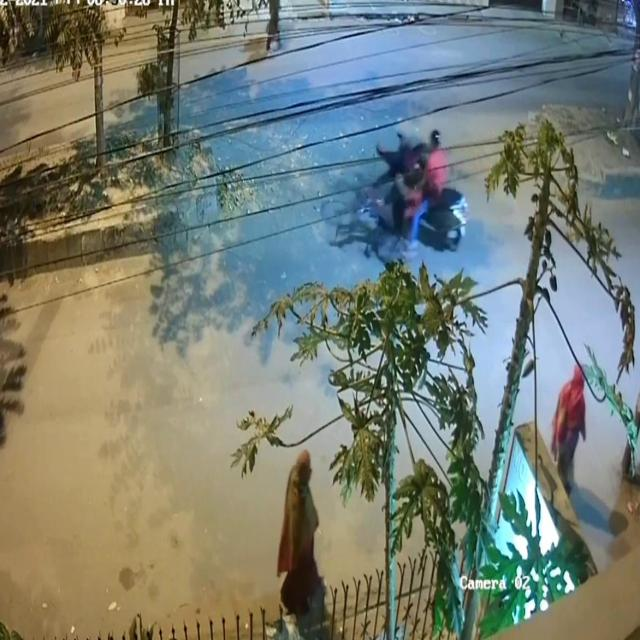accident: (322, 107, 469, 261)
